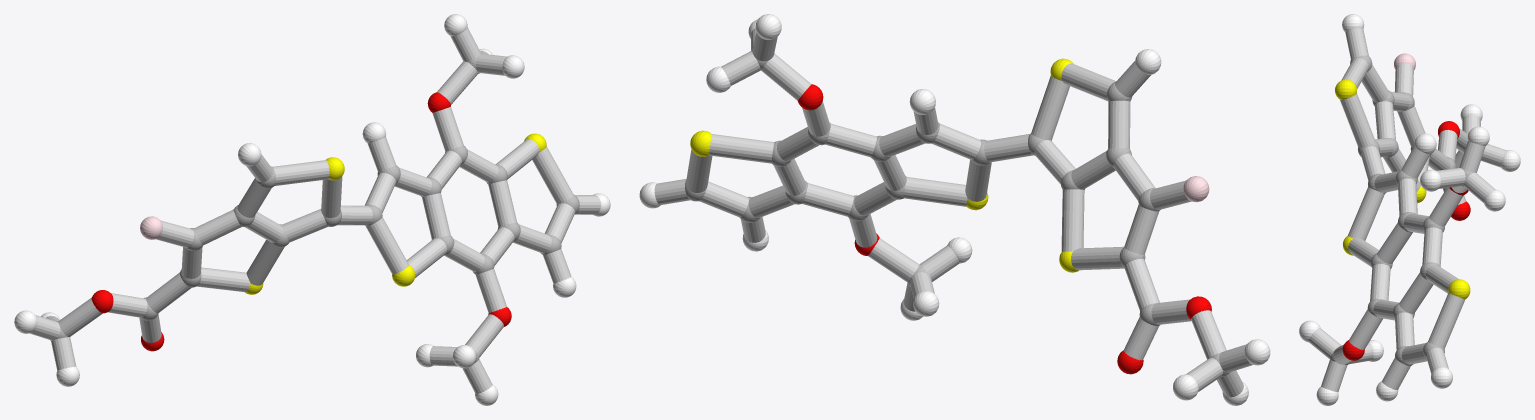
Rendered from Dimethoxy_Benzodithiophene_Phi_15_Theta_300_Methylcarbonyl_3_Fluoro_Thienothiophene.glb.
3 views of the same model, side by side, from view 1: azimuth 30°, elevation 25°; view 2: azimuth 150°, elevation 25°; view 3: azimuth 270°, elevation 25° (orthographic). The views are drawn at different scales.
Visible parts, largest first — view 1: grp15205, grp8689, grp1, grp13395, grp7241; view 2: grp15205, grp8689, grp1, grp13395, grp7241; view 3: grp15205, grp8689, grp1, grp7241, grp13395, grp14843.
Part boxes in pixels (left/top/right/bottom): grp15205: left=30, top=27, right=600, bottom=393; grp8689: left=14, top=14, right=610, bottom=405; grp1: left=50, top=53, right=579, bottom=363; grp13395: left=91, top=92, right=511, bottom=351; grp7241: left=245, top=133, right=546, bottom=294; grp15205: left=654, top=28, right=1253, bottom=397; grp8689: left=639, top=14, right=1270, bottom=405; grp1: left=685, top=48, right=1229, bottom=376; grp13395: left=798, top=84, right=1211, bottom=374; grp7241: left=690, top=58, right=1078, bottom=272; grp15205: left=1308, top=28, right=1506, bottom=391; grp8689: left=1299, top=14, right=1520, bottom=405; grp1: left=1330, top=55, right=1473, bottom=365; grp7241: left=1335, top=79, right=1470, bottom=299; grp13395: left=1342, top=121, right=1470, bottom=360; grp14843: left=1394, top=53, right=1415, bottom=69.
Bounding box in the file's own units: 17 × 8.98 × 6.01.
